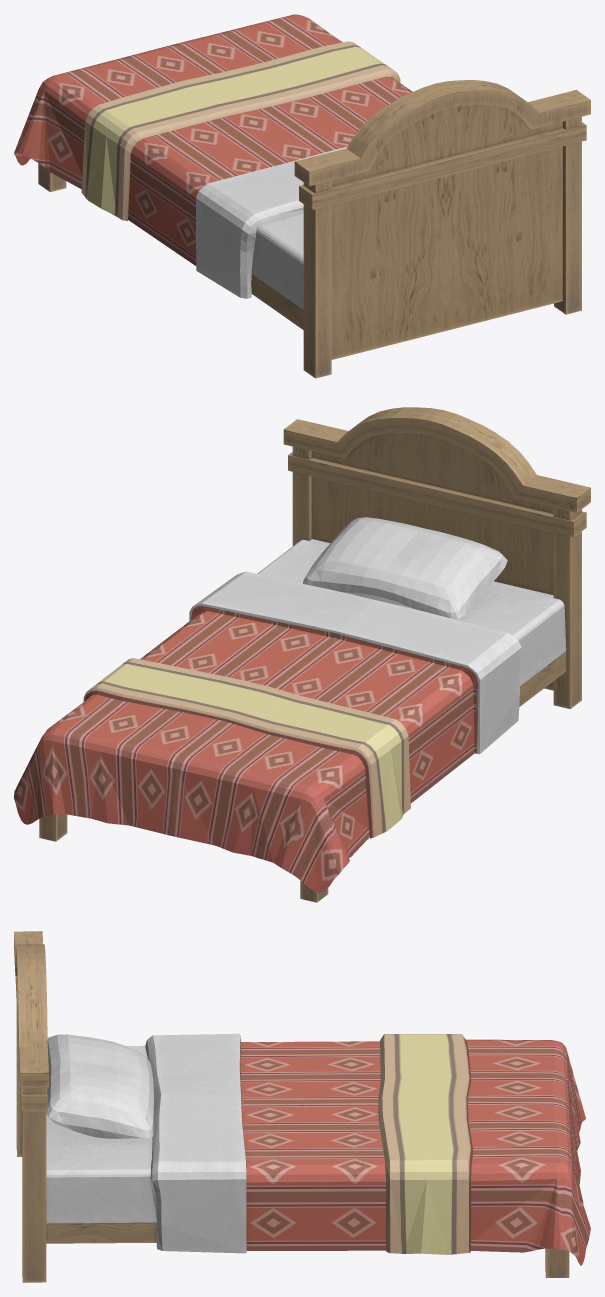
The model's file is P_DoubleBed_003_S1_M01.obj.
3 views of the same model, one above another, from view 1: azimuth 30°, elevation 25°; view 2: azimuth 150°, elevation 25°; view 3: azimuth 270°, elevation 25° (orthographic).
Bounding box in the file's own units: 1.96 × 1.47 × 3.
Materials: 1 (1 with a texture image).
